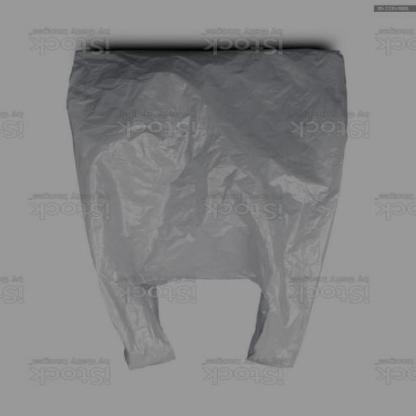Plastic Bag: (65, 47, 349, 370)
